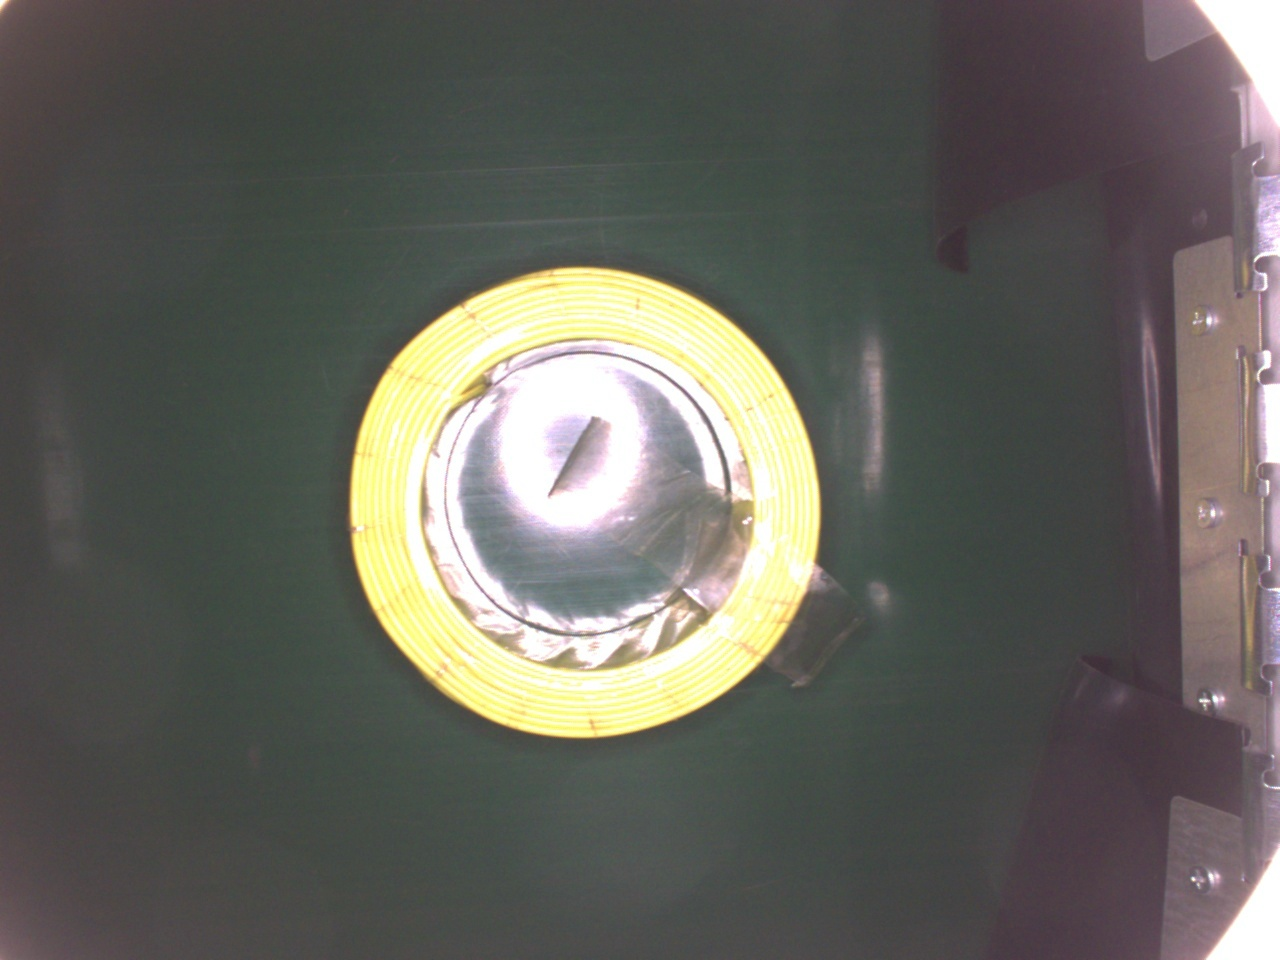yellow: (347, 261, 820, 737)
